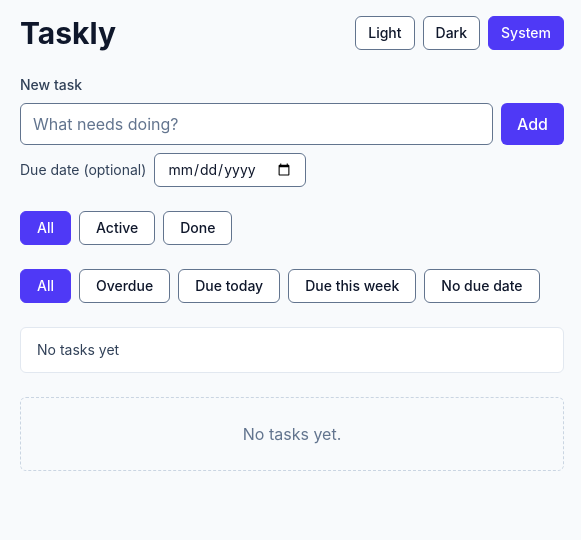
Test: App › filters › shows "No active tasks." under Active when every task is done
The image size is (581, 540).
Type "Buy milk" into the field labelled "New task".
click(256, 124); type("Buy milk")  # box [20, 103, 493, 145]
Then press Enter
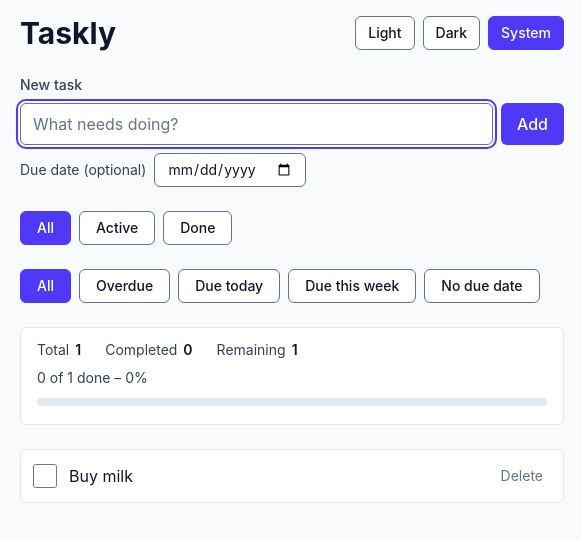
Click the checkbox labelled "Buy milk".
click(45, 476)  # box [33, 464, 57, 488]
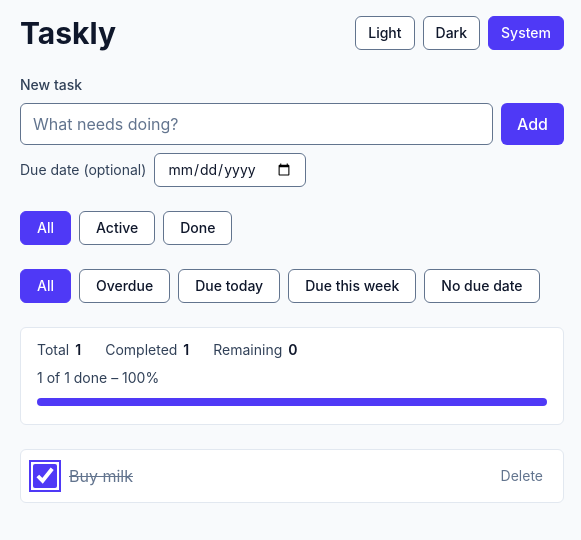
Click the button "Active".
click(117, 228)  # box [79, 211, 155, 245]
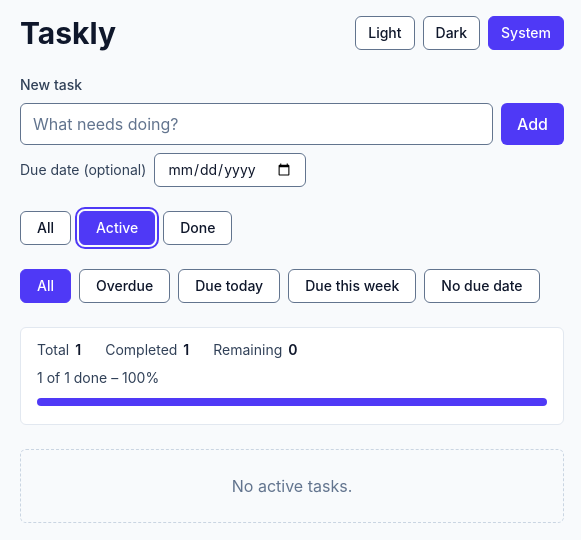
Expected: the text "No tasks yet." is not shown
Now the text "No active tasks." is shown, box [20, 449, 564, 523]
